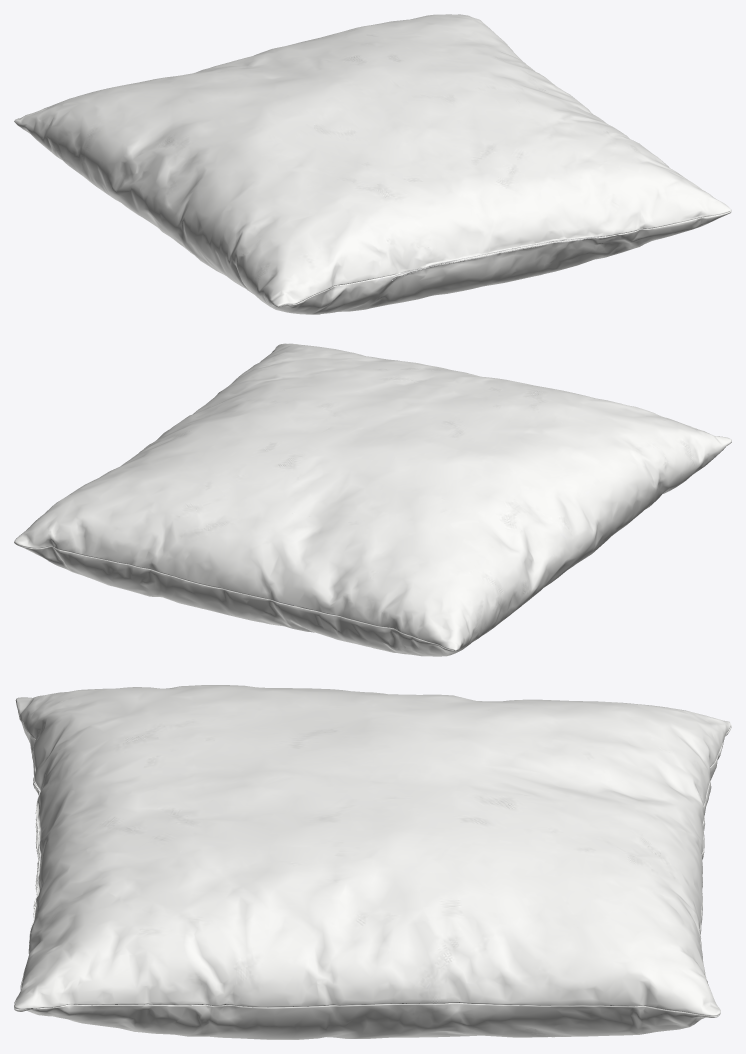
File: inner_poduszka_wewnetrzna_60262193.glb
3 views of the same model, one above another, from view 1: azimuth 30°, elevation 25°; view 2: azimuth 150°, elevation 25°; view 3: azimuth 270°, elevation 25° (orthographic). The views are drawn at different scales.
Parts seen in each view (by area): view 1: inner_poduszka_wewnetrzna_60262193; view 2: inner_poduszka_wewnetrzna_60262193; view 3: inner_poduszka_wewnetrzna_60262193.
Boxes of the visible parts, x1,y1,x2,y2 form: inner_poduszka_wewnetrzna_60262193: (14,14,731,314); inner_poduszka_wewnetrzna_60262193: (14,343,731,656); inner_poduszka_wewnetrzna_60262193: (14,685,731,1039).
Bounding box in the file's own units: 0.4893 × 0.125 × 0.5055.
Materials: 1 (1 with a texture image).
